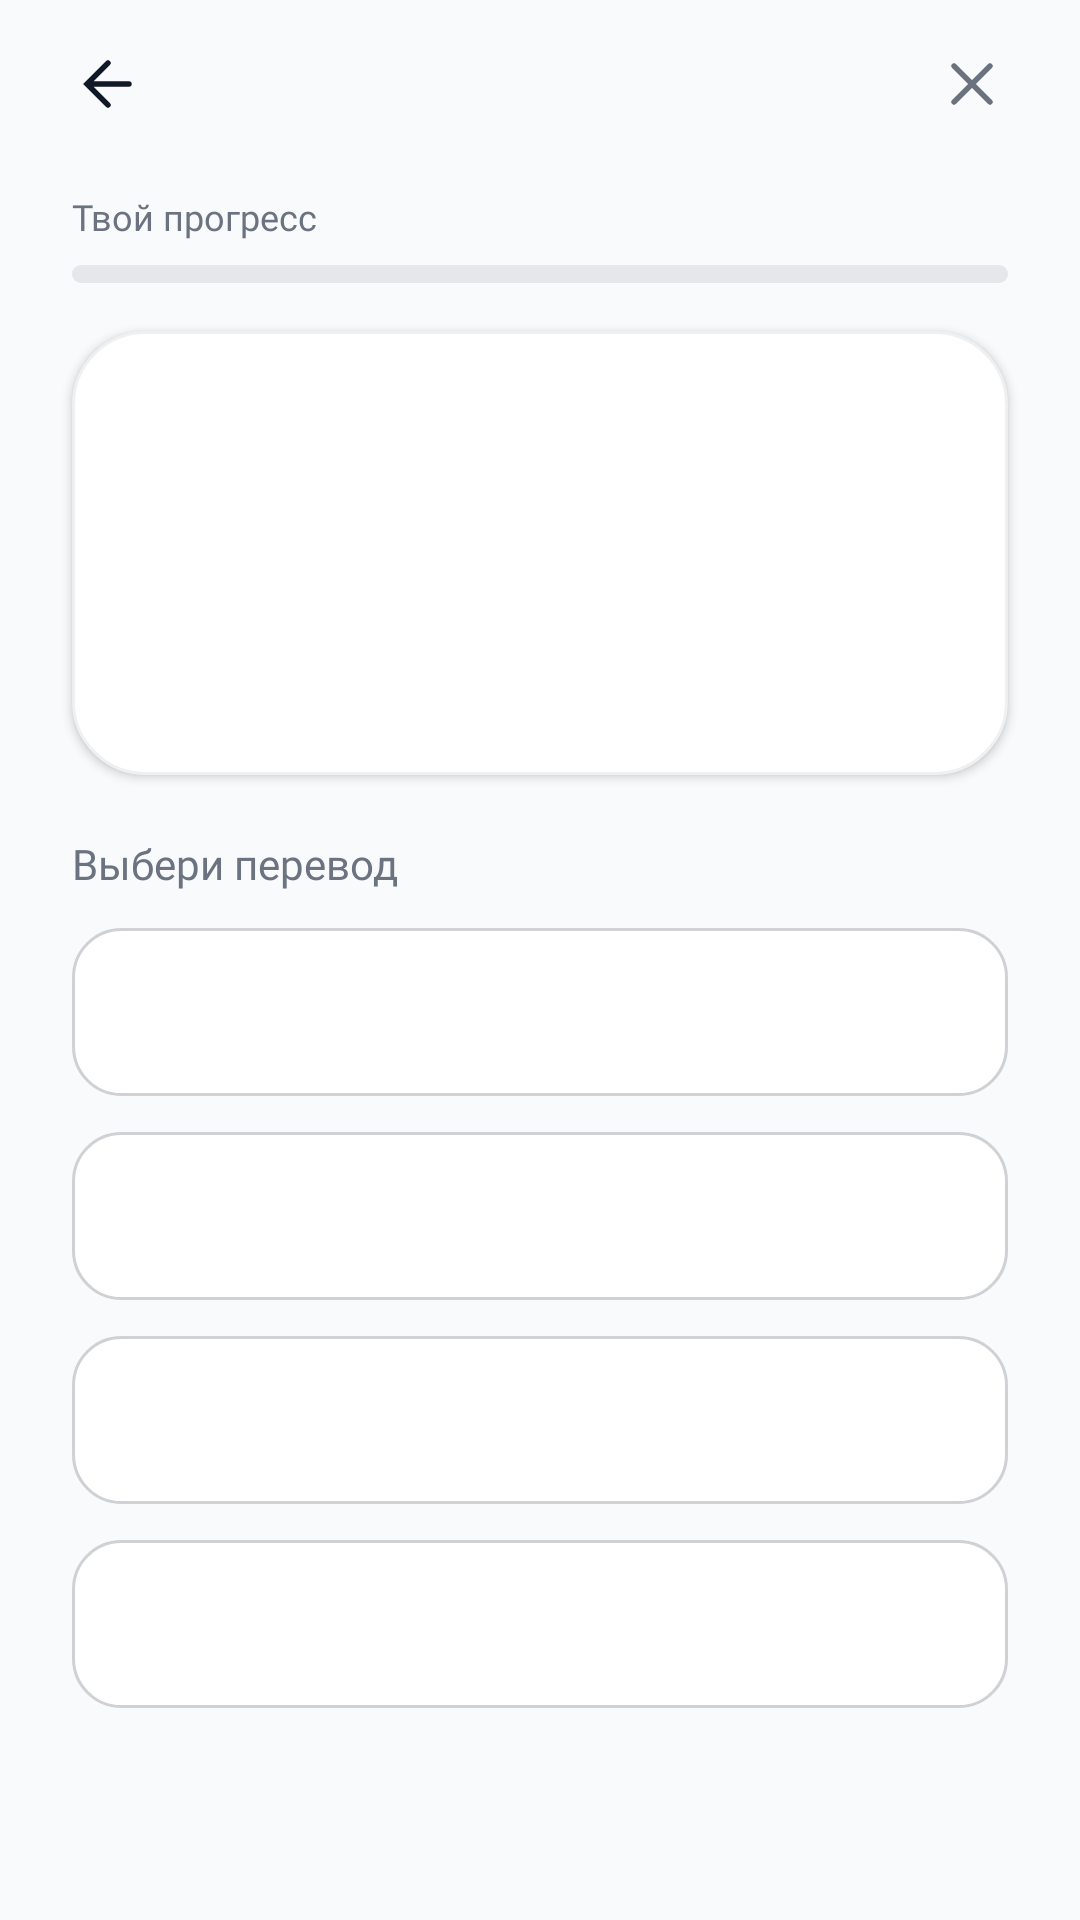

Locate icon controls on the screen. Image size 1080w x 1920h, boxes as bbox(x1, y1, x2, y2).
Закрыть: bbox(951, 63, 993, 105)
Назад: bbox(83, 60, 132, 108)
